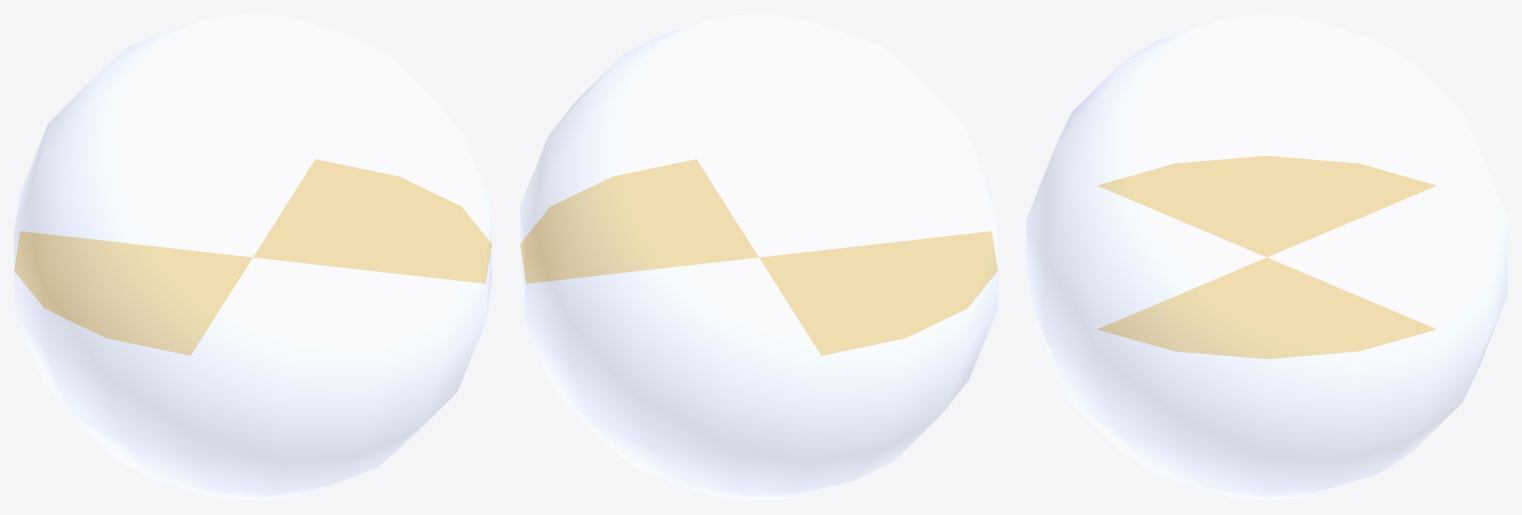
Rendered from marble-center-butterfly-high.glb.
3 renders of one model, left to right at view 1: azimuth 30°, elevation 25°; view 2: azimuth 150°, elevation 25°; view 3: azimuth 270°, elevation 25°, orthographic.
Parts seen in each view (by area): view 1: (%ignore), marble-center-butterfly-high; view 2: (%ignore), marble-center-butterfly-high; view 3: (%ignore), marble-center-butterfly-high.
Part boxes in pixels (x1,y1,x2,y2): (%ignore): (14, 14, 491, 500); marble-center-butterfly-high: (14, 159, 491, 355); (%ignore): (520, 14, 997, 500); marble-center-butterfly-high: (520, 159, 997, 355); (%ignore): (1026, 14, 1507, 500); marble-center-butterfly-high: (1097, 156, 1436, 358).
Size of the model in its own units: 0.3939 by 0.4 by 0.3939.
